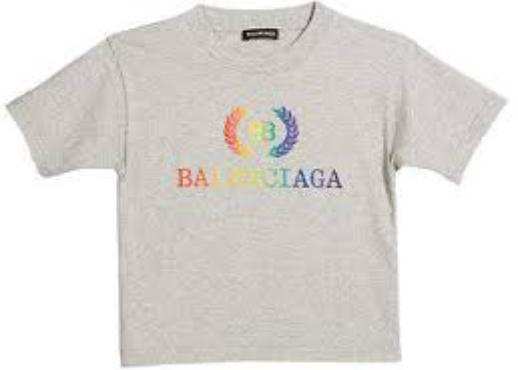BALENCIAGA: (174, 165, 347, 185), (244, 119, 275, 140)
